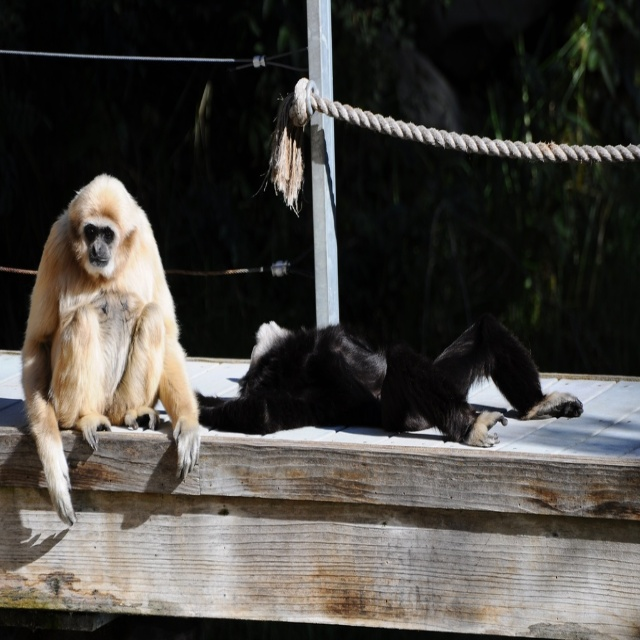Monkey: (18, 172, 203, 525)
